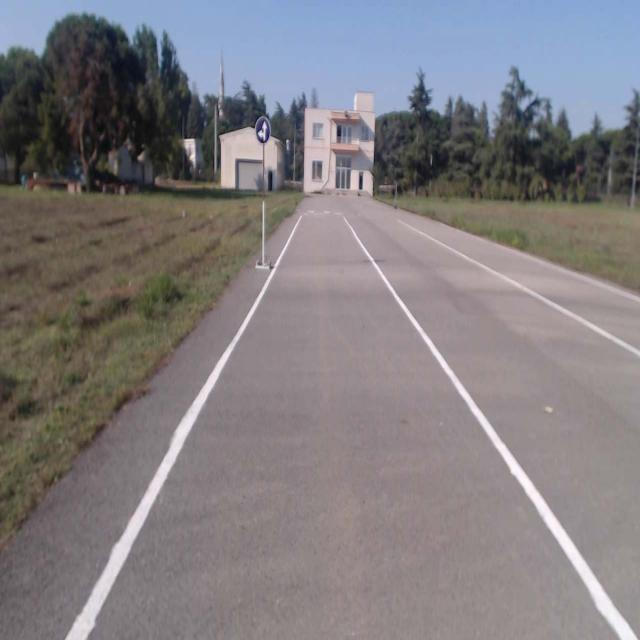ilerisol: (257, 117, 271, 143)
